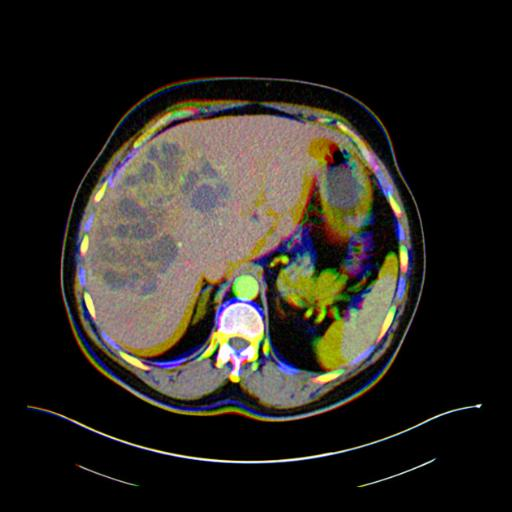Tumor: (89, 135, 229, 294)
